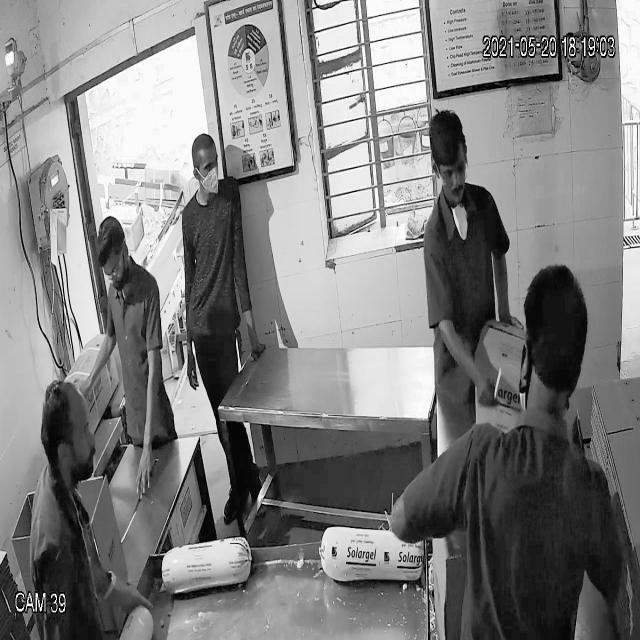glasses: (432, 159, 468, 187), (102, 253, 126, 283)
no-glass: (192, 156, 222, 178)
